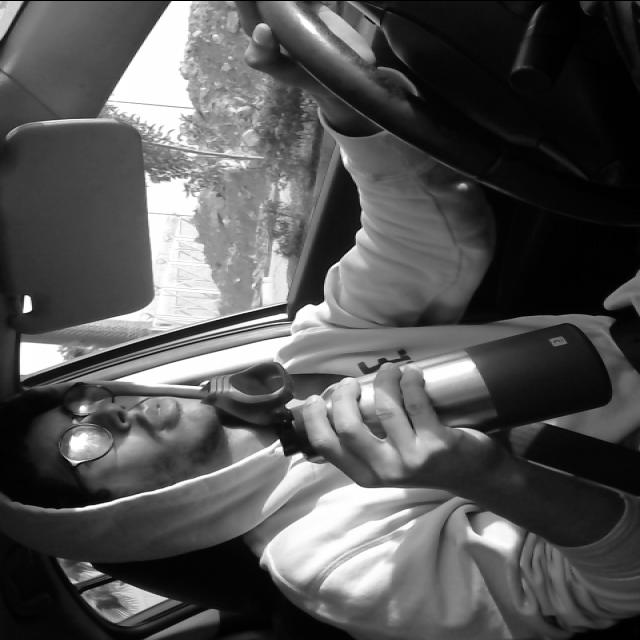drinking: (195, 320, 611, 460)
